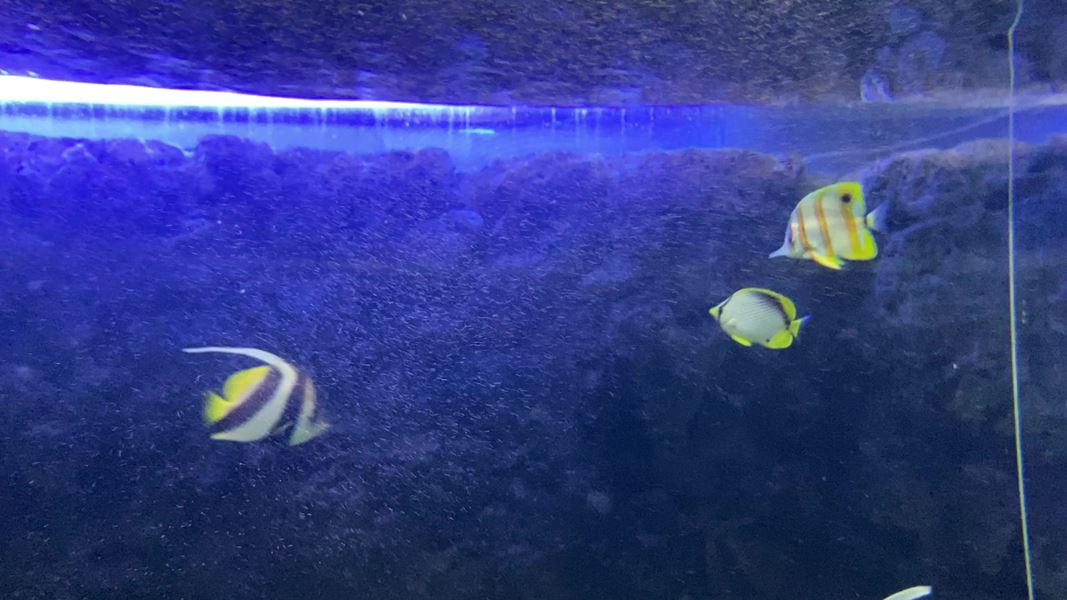Black-backed butterflyfish: (701, 282, 820, 359)
